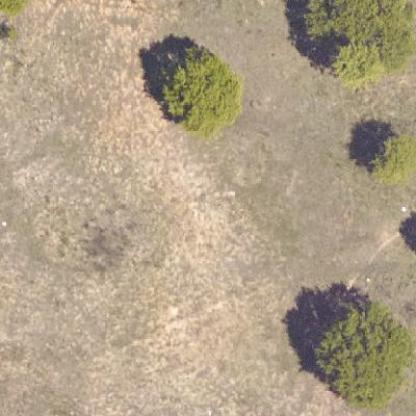tree-top: (308, 298, 415, 406), (298, 0, 414, 88), (157, 46, 245, 133), (368, 129, 415, 186)
